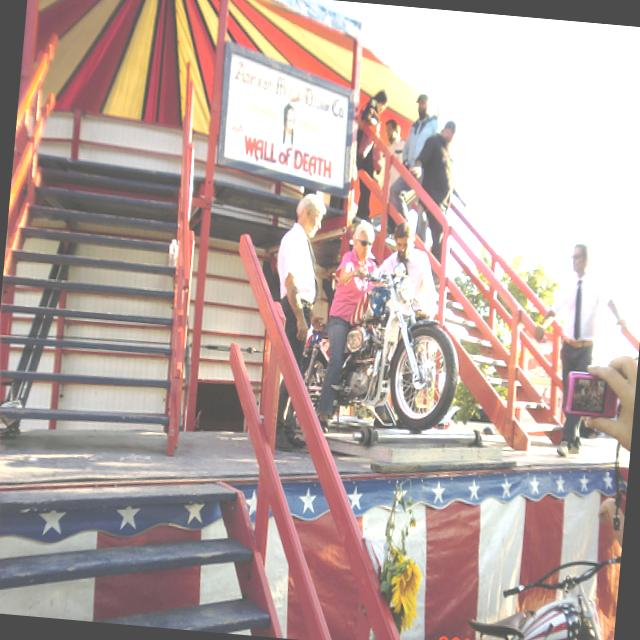Vehicle: (295, 255, 466, 435)
